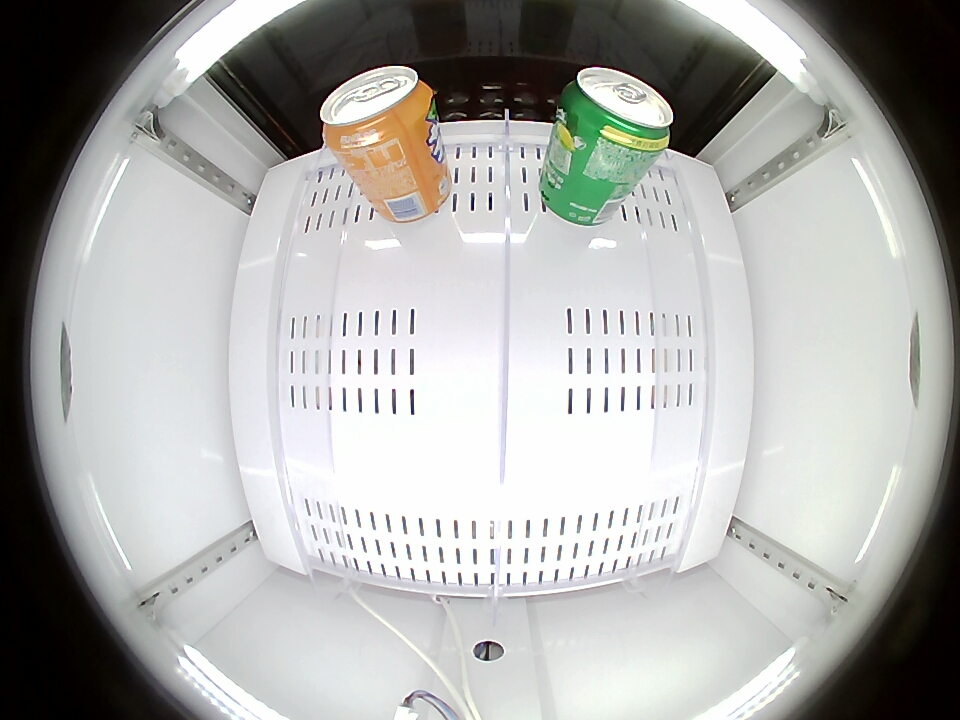fenda: (320, 66, 434, 152)
xuebi2: (559, 68, 675, 158)
